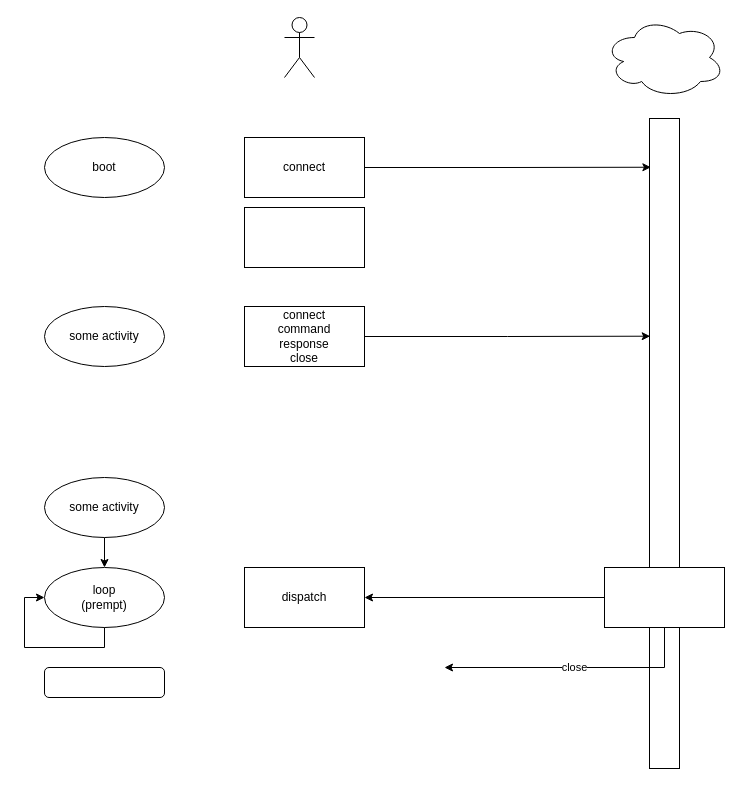
This 742x786 diagram has some shape labels left out. The shapes that lost their labels are listed below. From the top down, each one's centre as x and y in pixels, then its label:
At (x=299, y=47): "Actor".
At (x=304, y=237): "on success set connected cloud available".
At (x=664, y=597): "ping".
At (x=104, y=682): "IRQs".
